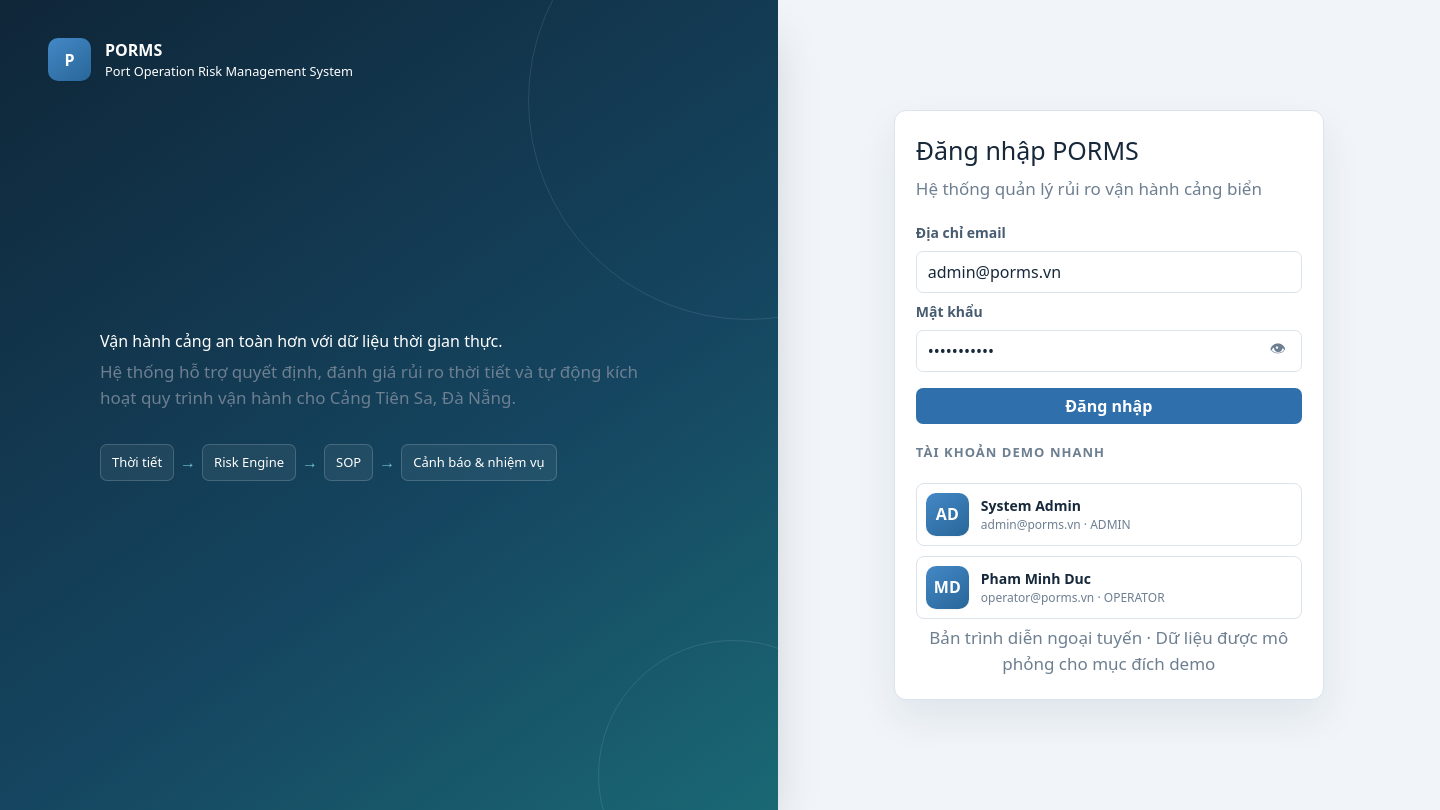
Test case: LoginPage › fills credentials when a demo account is selected
What coordinates should you click on to do the following:
click the button "MD Pham Minh Duc operator@porms.vn · OPERATOR"
I would click on:
 (1109, 587)
Its box is top-left (916, 556), bottom-right (1302, 619).
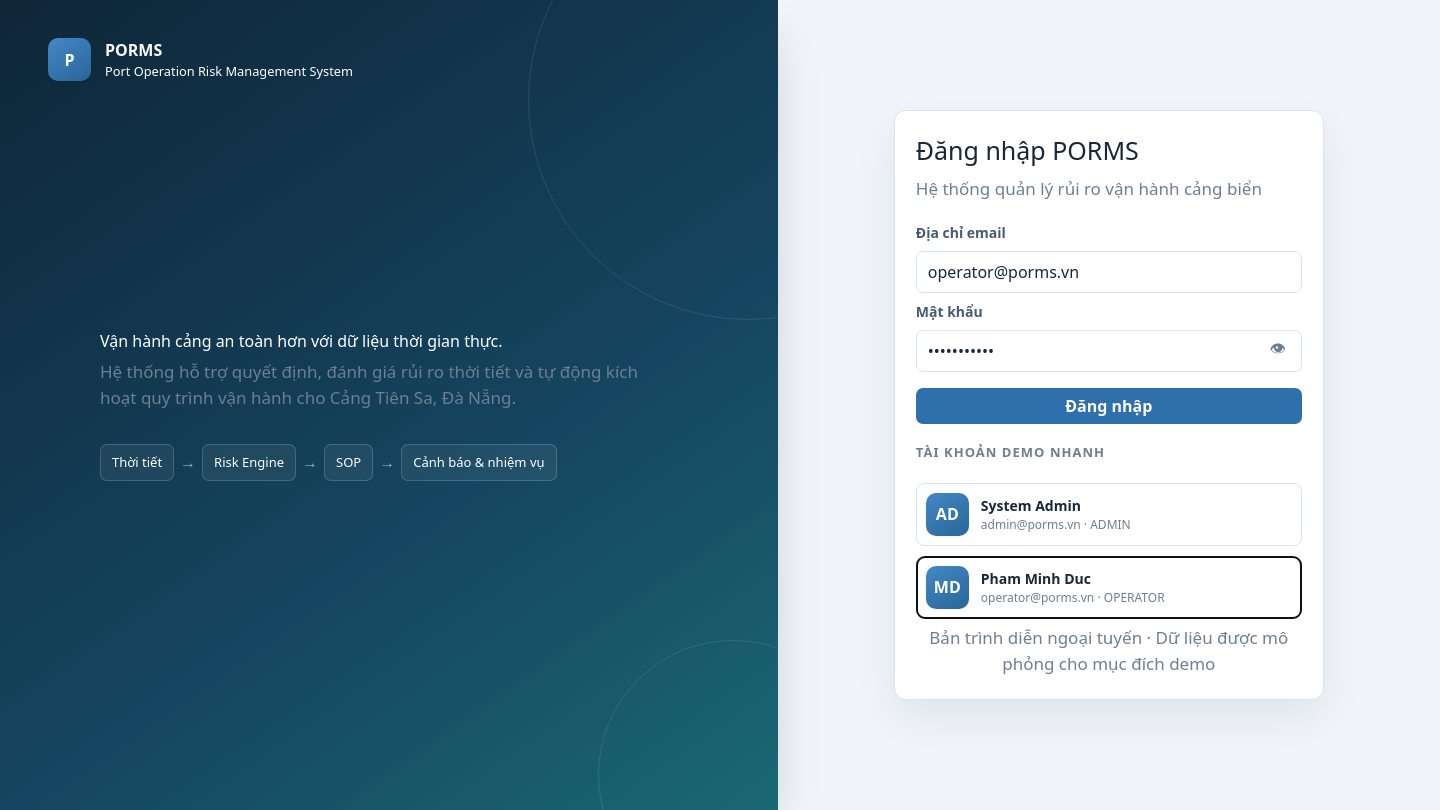
Expected: the password field with id "login-password" holds "Admin@2026!", top-left (916, 330), bottom-right (1302, 372)
Expected: the field with id "login-email" holds "operator@porms.vn", top-left (916, 251), bottom-right (1302, 293)
